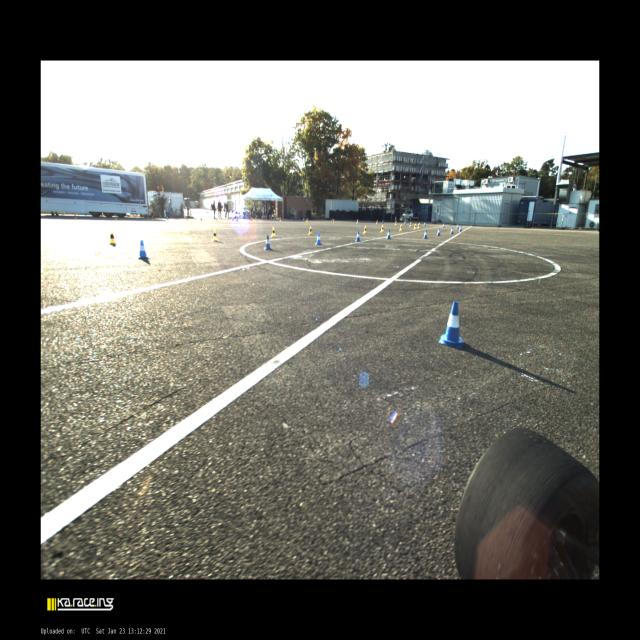blue_cone: (438, 301, 464, 348), (138, 240, 148, 259), (264, 235, 272, 250), (315, 232, 322, 245), (356, 231, 361, 242), (386, 230, 391, 239), (423, 230, 428, 239), (437, 228, 440, 236), (450, 227, 453, 234), (459, 226, 461, 232), (442, 224, 445, 228), (456, 224, 458, 229), (424, 222, 426, 226), (134, 216, 136, 220), (404, 221, 406, 224), (331, 219, 333, 222), (200, 217, 202, 220), (382, 220, 383, 224), (303, 218, 304, 221), (167, 216, 168, 219)
large_orange_cone: (236, 216, 238, 221), (232, 215, 233, 220)
yellow_cone: (110, 231, 116, 245), (213, 229, 218, 241), (271, 227, 276, 237), (308, 226, 312, 235), (380, 225, 384, 232), (363, 226, 366, 233), (399, 224, 402, 231), (417, 223, 420, 229), (414, 223, 416, 230), (356, 218, 358, 224), (333, 218, 335, 224), (115, 215, 117, 220), (152, 215, 154, 220), (395, 221, 397, 225), (306, 218, 308, 222), (186, 217, 188, 221), (216, 218, 218, 222), (376, 220, 377, 225), (75, 214, 76, 219), (410, 222, 411, 226), (280, 218, 281, 222), (256, 217, 256, 222)
